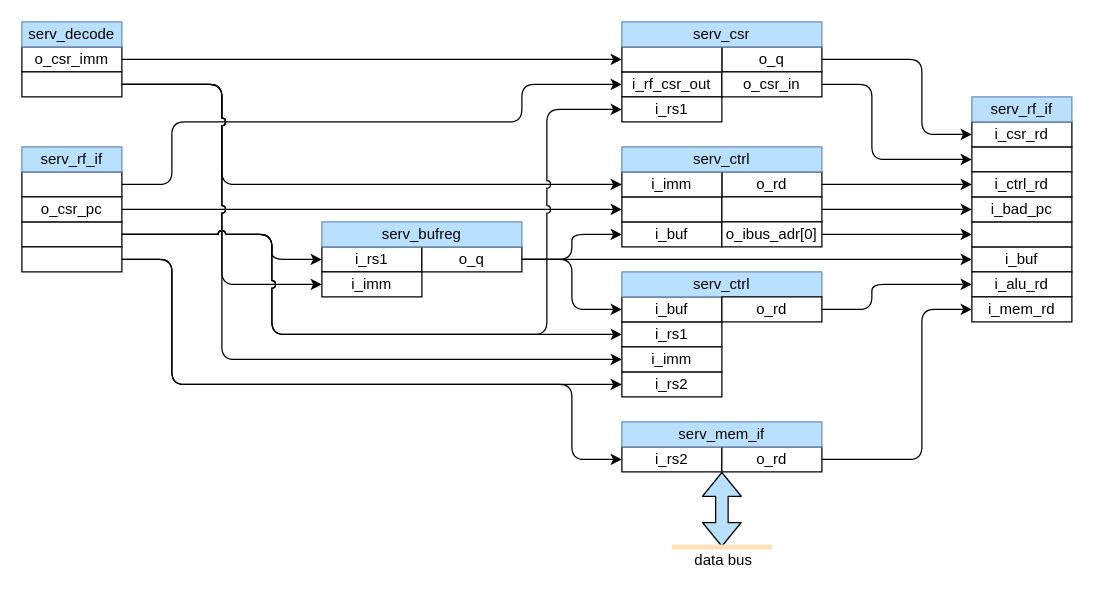
This 1094x590 diagram has some shape labels left out. Each missing label, with the centre of its shape:
"i_csr" belongs at (1021,159).
"i_csr_imm" belongs at (671,59).
"i_csr_pc" belongs at (671,209).
"i_mepc" belongs at (1021,234).
"o_bad_pc" belongs at (771,209).
"o_csr" belongs at (71,184).
"o_imm" belongs at (71,84).
"o_rs1" belongs at (71,234).
"o_rs2" belongs at (71,259).
